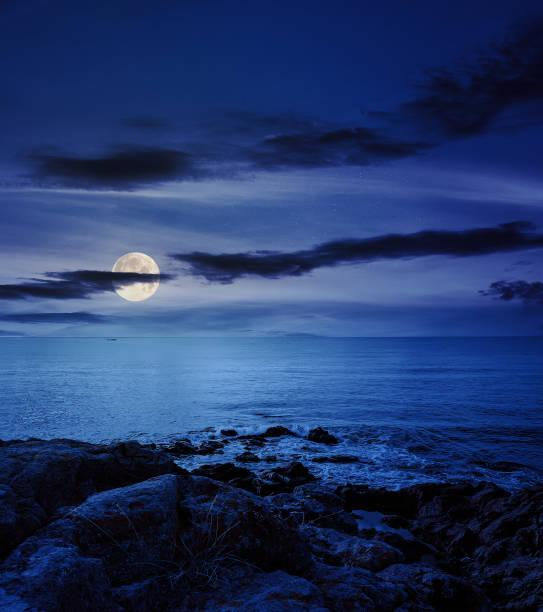moon: (99, 247, 165, 303)
